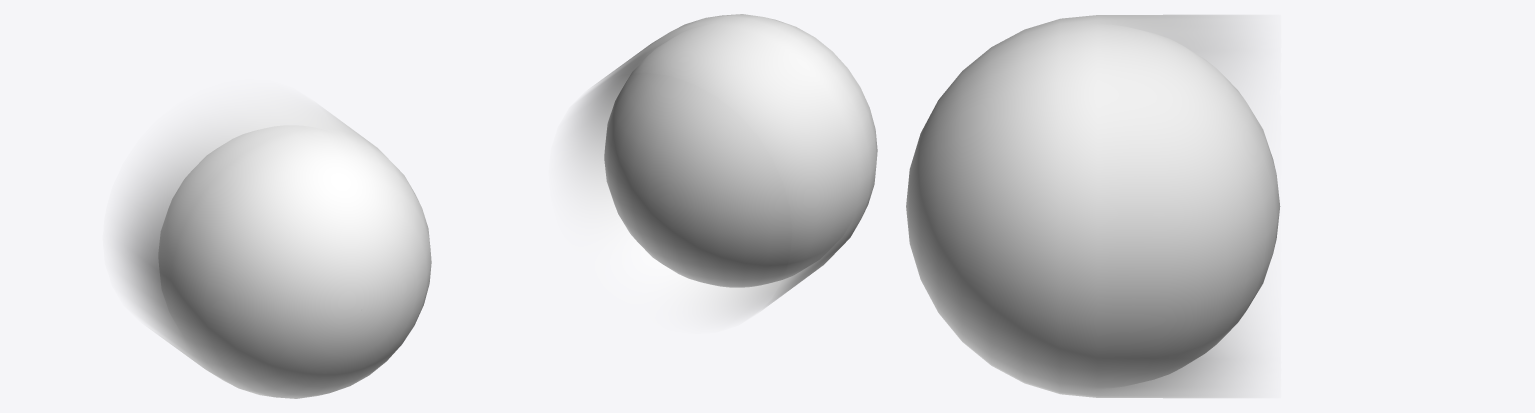
The model's file is fireball.glb.
The picture shows the model from 3 angles, left to right: view 1: azimuth 30°, elevation 25°; view 2: azimuth 150°, elevation 25°; view 3: azimuth 270°, elevation 25°; orthographic projection. The views are drawn at different scales.
Visible parts, largest first — view 1: grad, ball; view 2: ball, grad; view 3: grad, ball.
Boxes of the visible parts, bbox=[...] form: grad: bbox=[114, 87, 431, 398]; ball: bbox=[159, 126, 361, 310]; ball: bbox=[604, 30, 850, 287]; grad: bbox=[560, 14, 877, 325]; grad: bbox=[906, 14, 1267, 398]; ball: bbox=[1121, 26, 1280, 386].
Size of the model in its own units: 2.9 by 2.9 by 4.62.
Materials: 2 (1 with a texture image).
